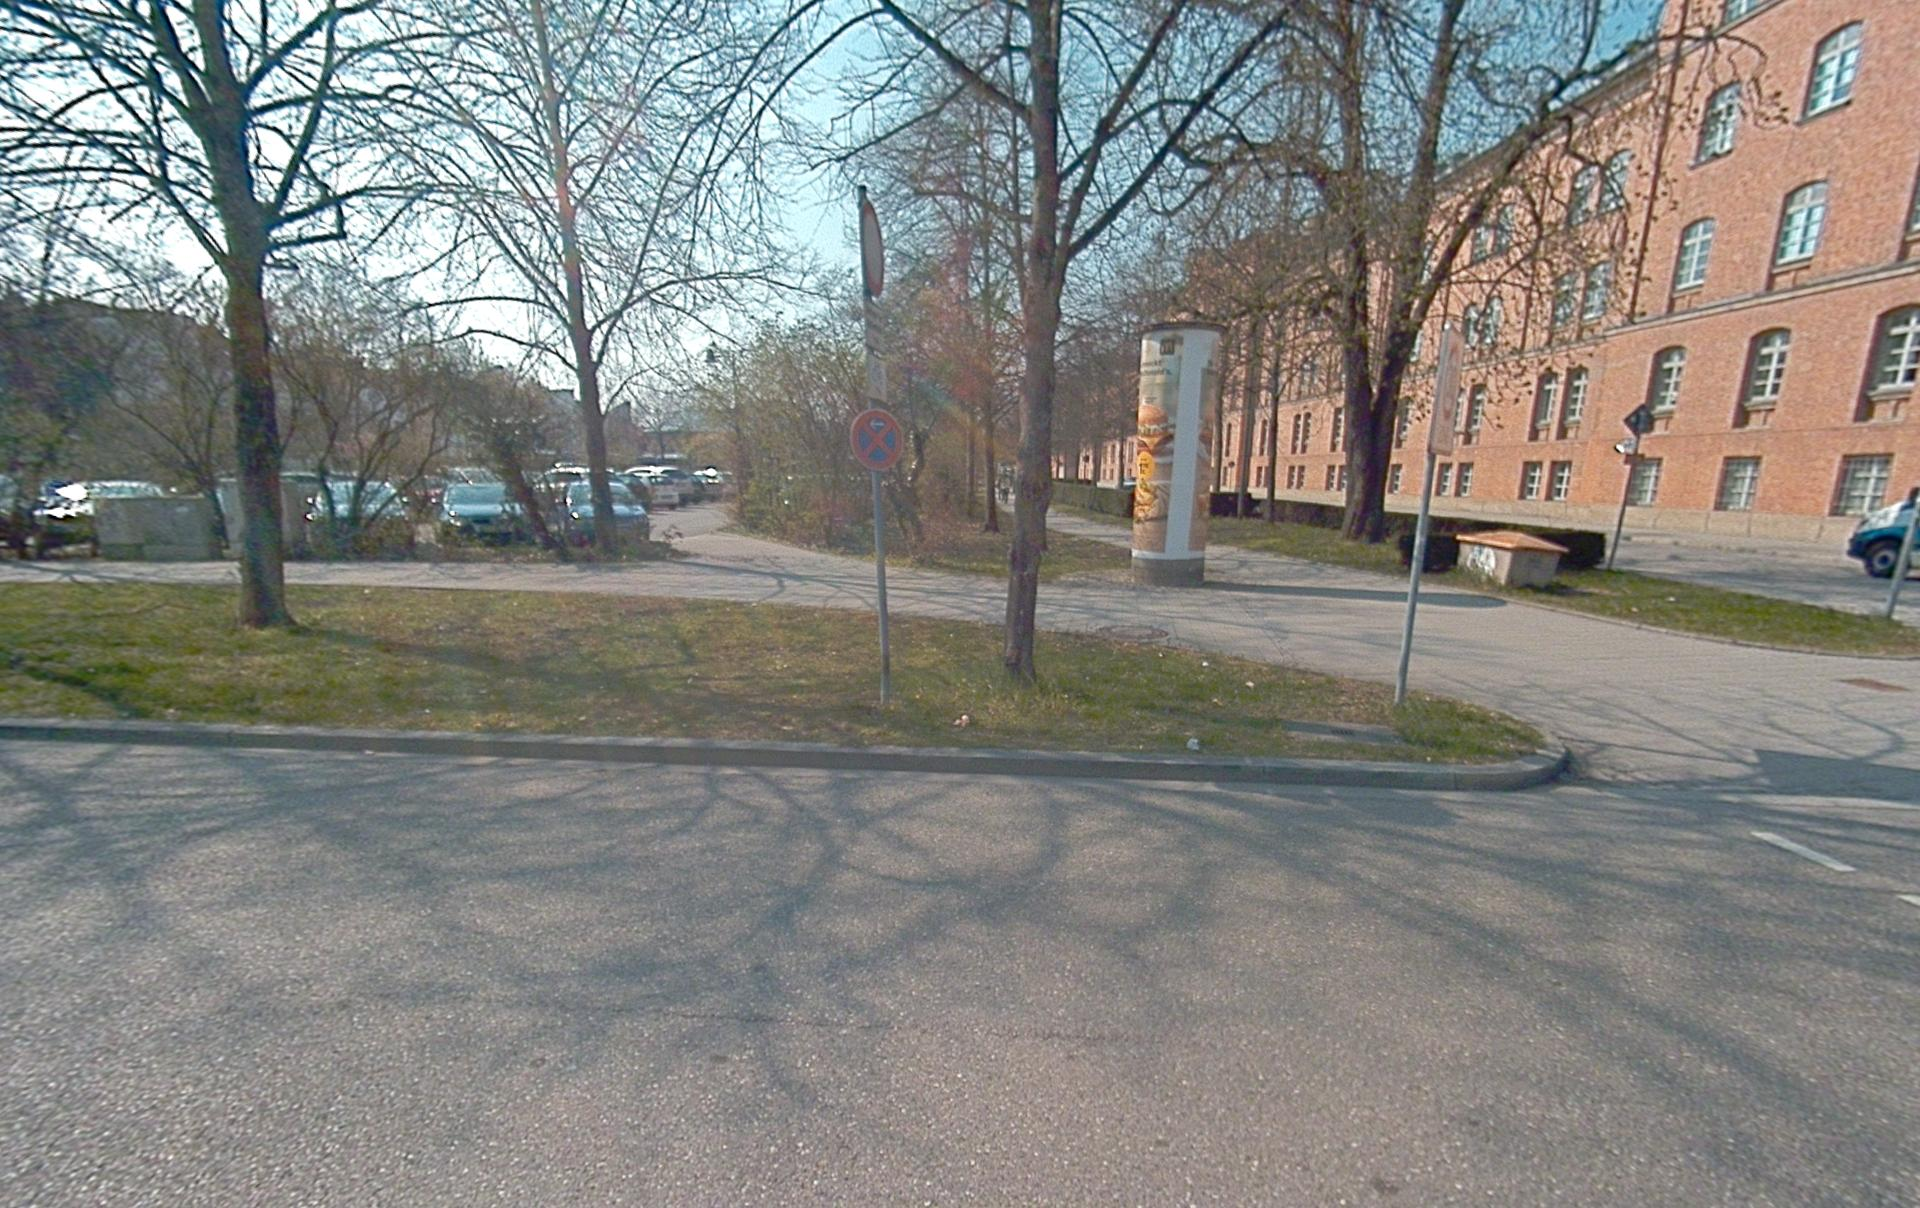car: (559, 479, 651, 548), (1846, 494, 1920, 579), (438, 482, 529, 544), (305, 477, 409, 532), (621, 466, 693, 508)
traffic sign: (850, 408, 904, 472)
